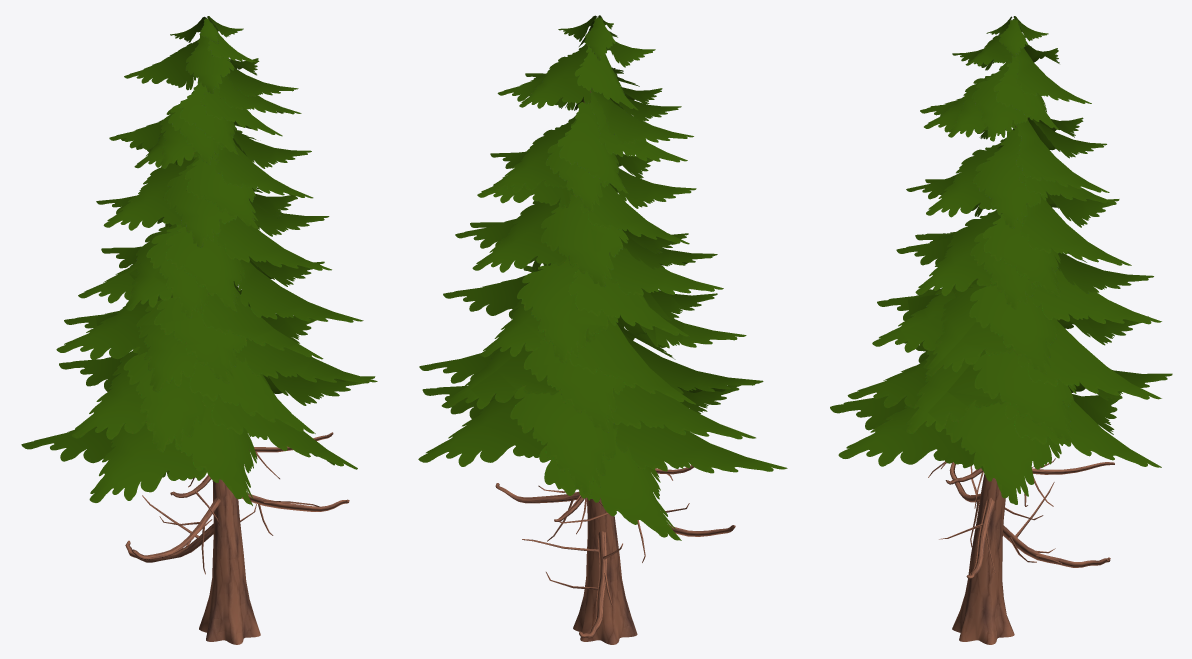
File: Pine_4.gltf
3 renders of one model, left to right at view 1: azimuth 30°, elevation 25°; view 2: azimuth 150°, elevation 25°; view 3: azimuth 270°, elevation 25°, orthographic. The views are drawn at different scales.
Parts seen in each view (by area): view 1: Pine_4; view 2: Pine_4; view 3: Pine_4.
Boxes of the visible parts, <box> form: Pine_4: <box>21,16,377,644</box>; Pine_4: <box>418,15,787,644</box>; Pine_4: <box>830,16,1172,644</box>.
Size of the model in its own units: 5.8 by 10.24 by 5.37.
Materials: 2 (2 with a texture image).
